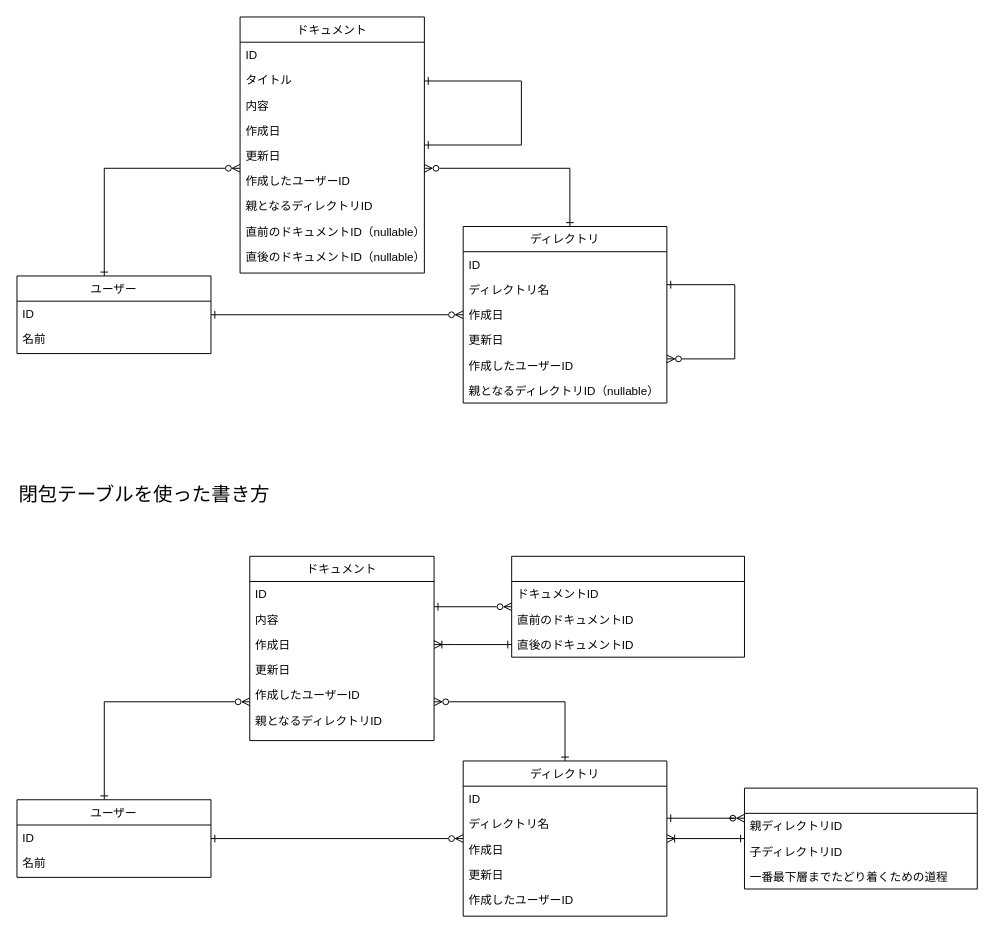
Some shapes in this 994 by 933 pixel diagram are drawn without their labels. Each missing label, with the box of its shape:
ディレクトリの閉包テーブル: (744, 787, 977, 889)
ドキュメントの閉包テーブル: (511, 555, 744, 657)
